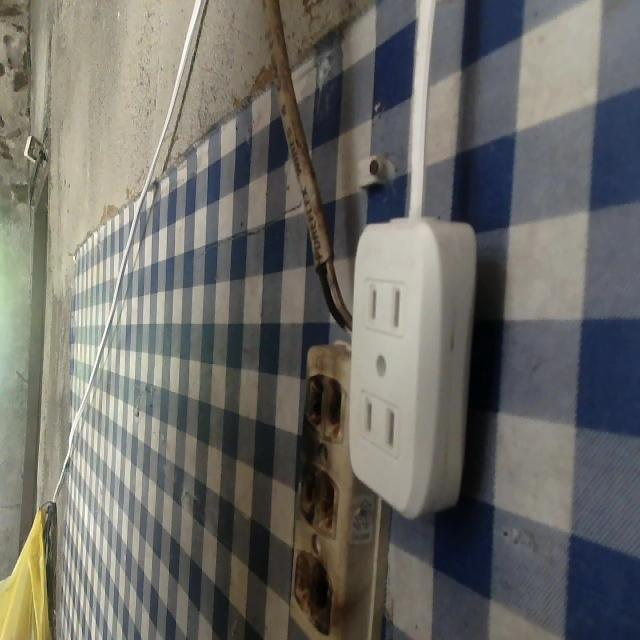-: (287, 543, 342, 632), (292, 459, 351, 533), (301, 370, 348, 454)
